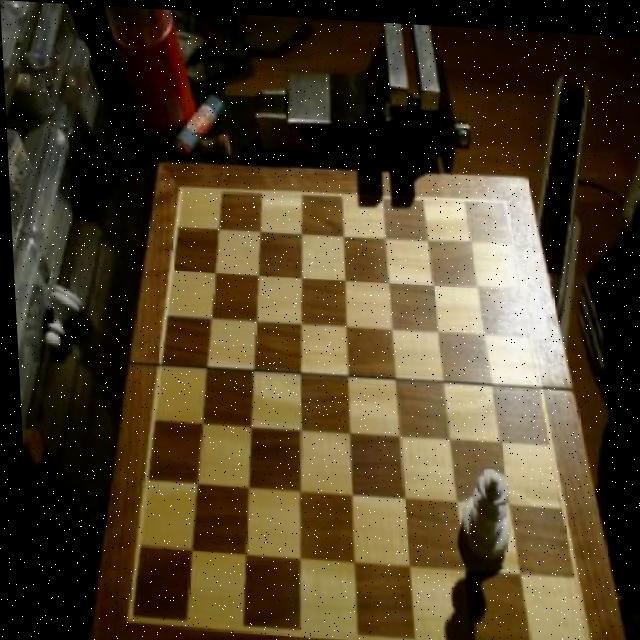white-pawn: (456, 459, 509, 561)
